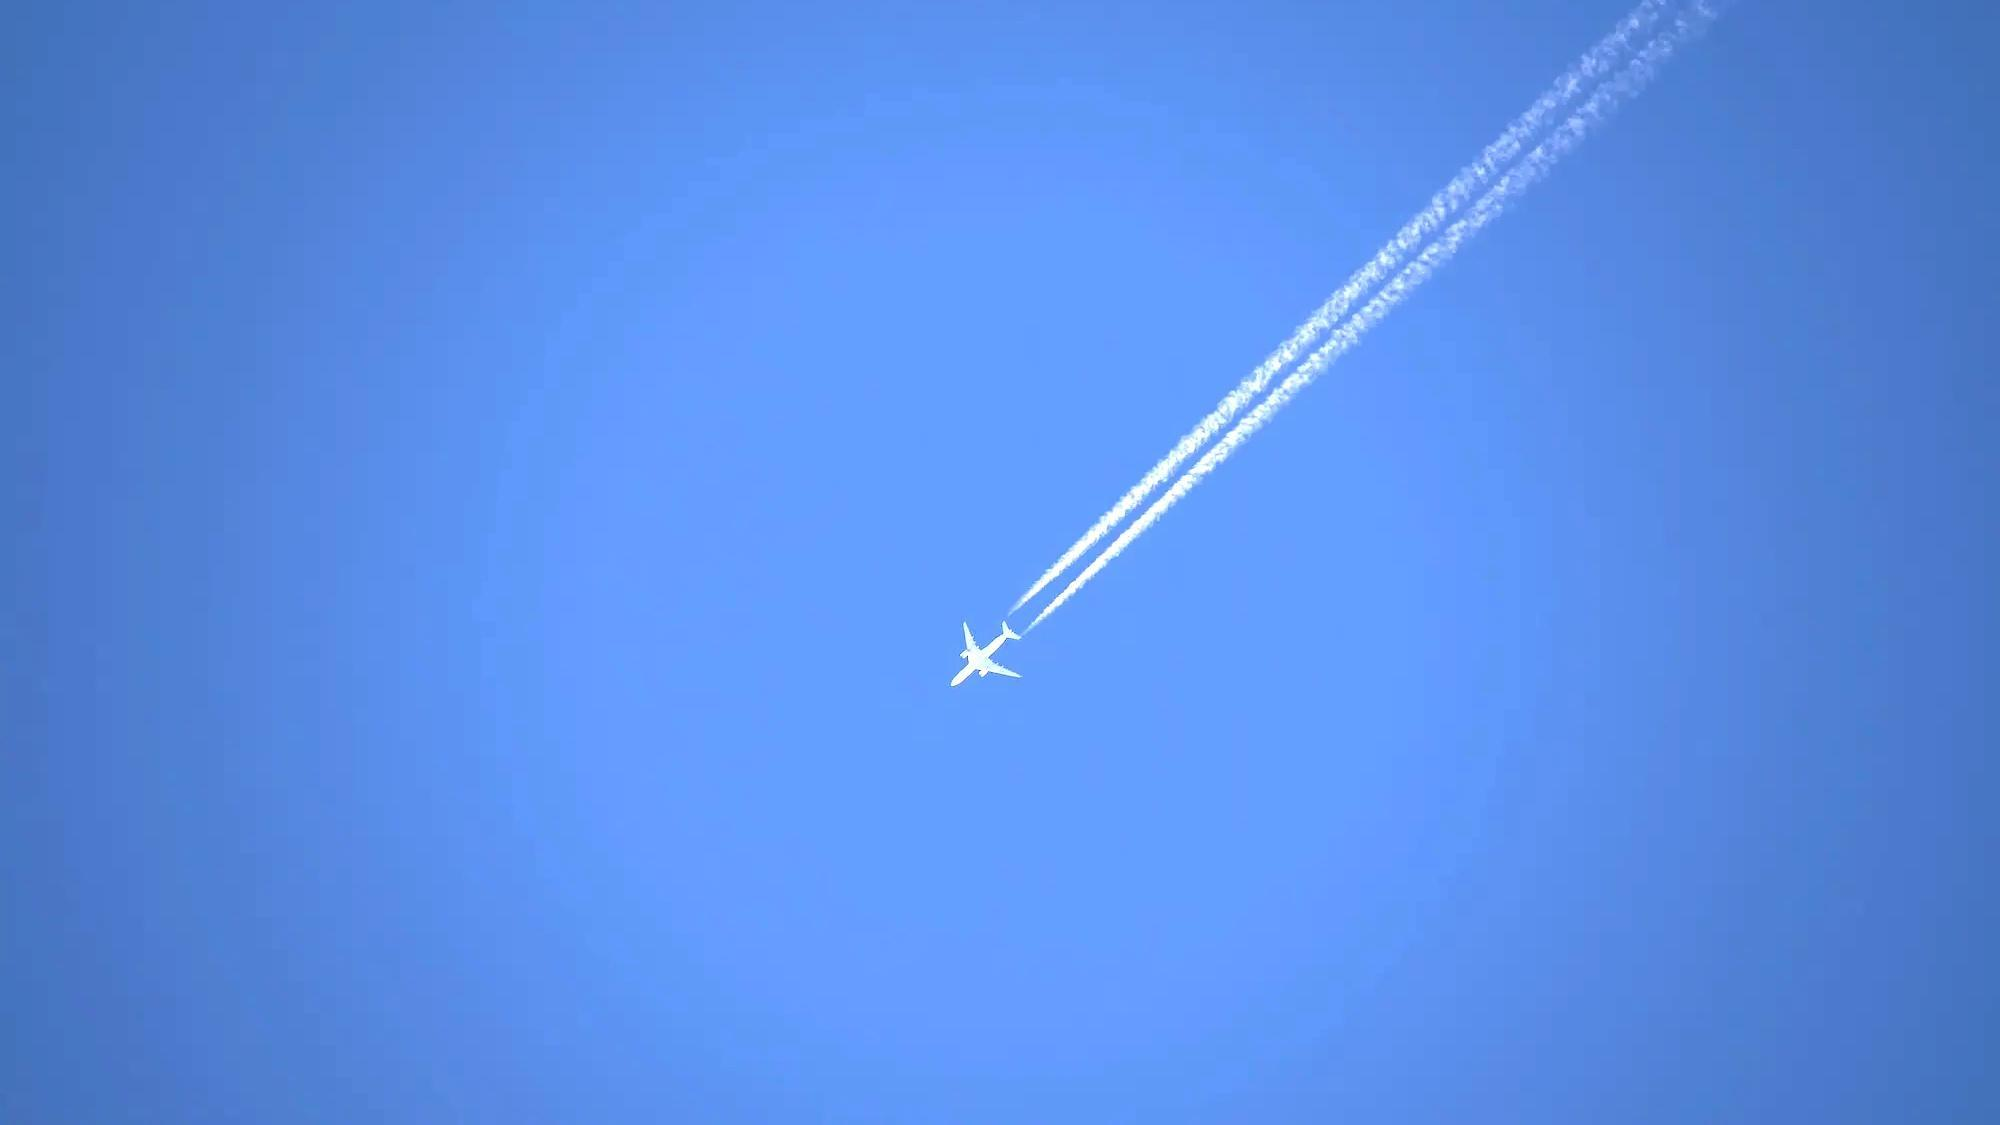Plane: (885, 179, 1446, 714)
